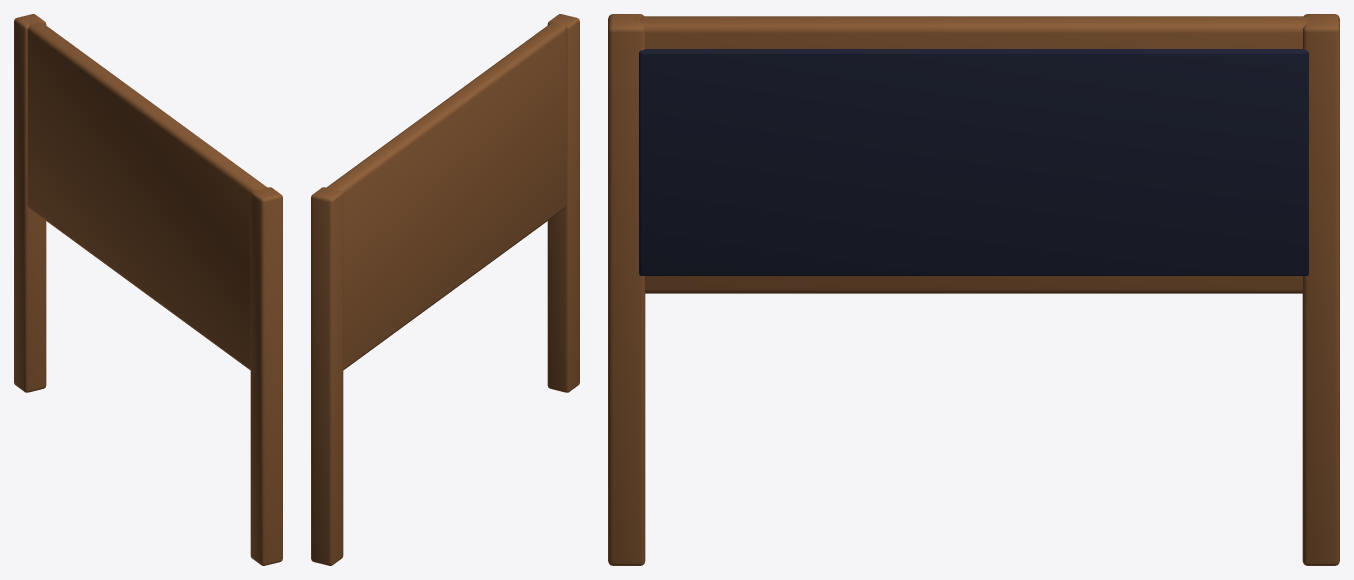
The model's file is SM_SignBoard.fbx.
3 renders of one model, left to right at view 1: azimuth 30°, elevation 25°; view 2: azimuth 150°, elevation 25°; view 3: azimuth 270°, elevation 25°, orthographic. The views are drawn at different scales.
Visible parts, largest first — view 1: SM_SignBoard; view 2: SM_SignBoard; view 3: SM_SignBoard.
Part boxes in pixels (left/top/right/bottom): SM_SignBoard: left=14, top=14, right=282, bottom=565; SM_SignBoard: left=311, top=14, right=579, bottom=565; SM_SignBoard: left=608, top=14, right=1339, bottom=565.
Size of what is drawn, in the model's own units: 0.165 by 2.4 by 2.95.
Materials: 1 (1 with a texture image).
